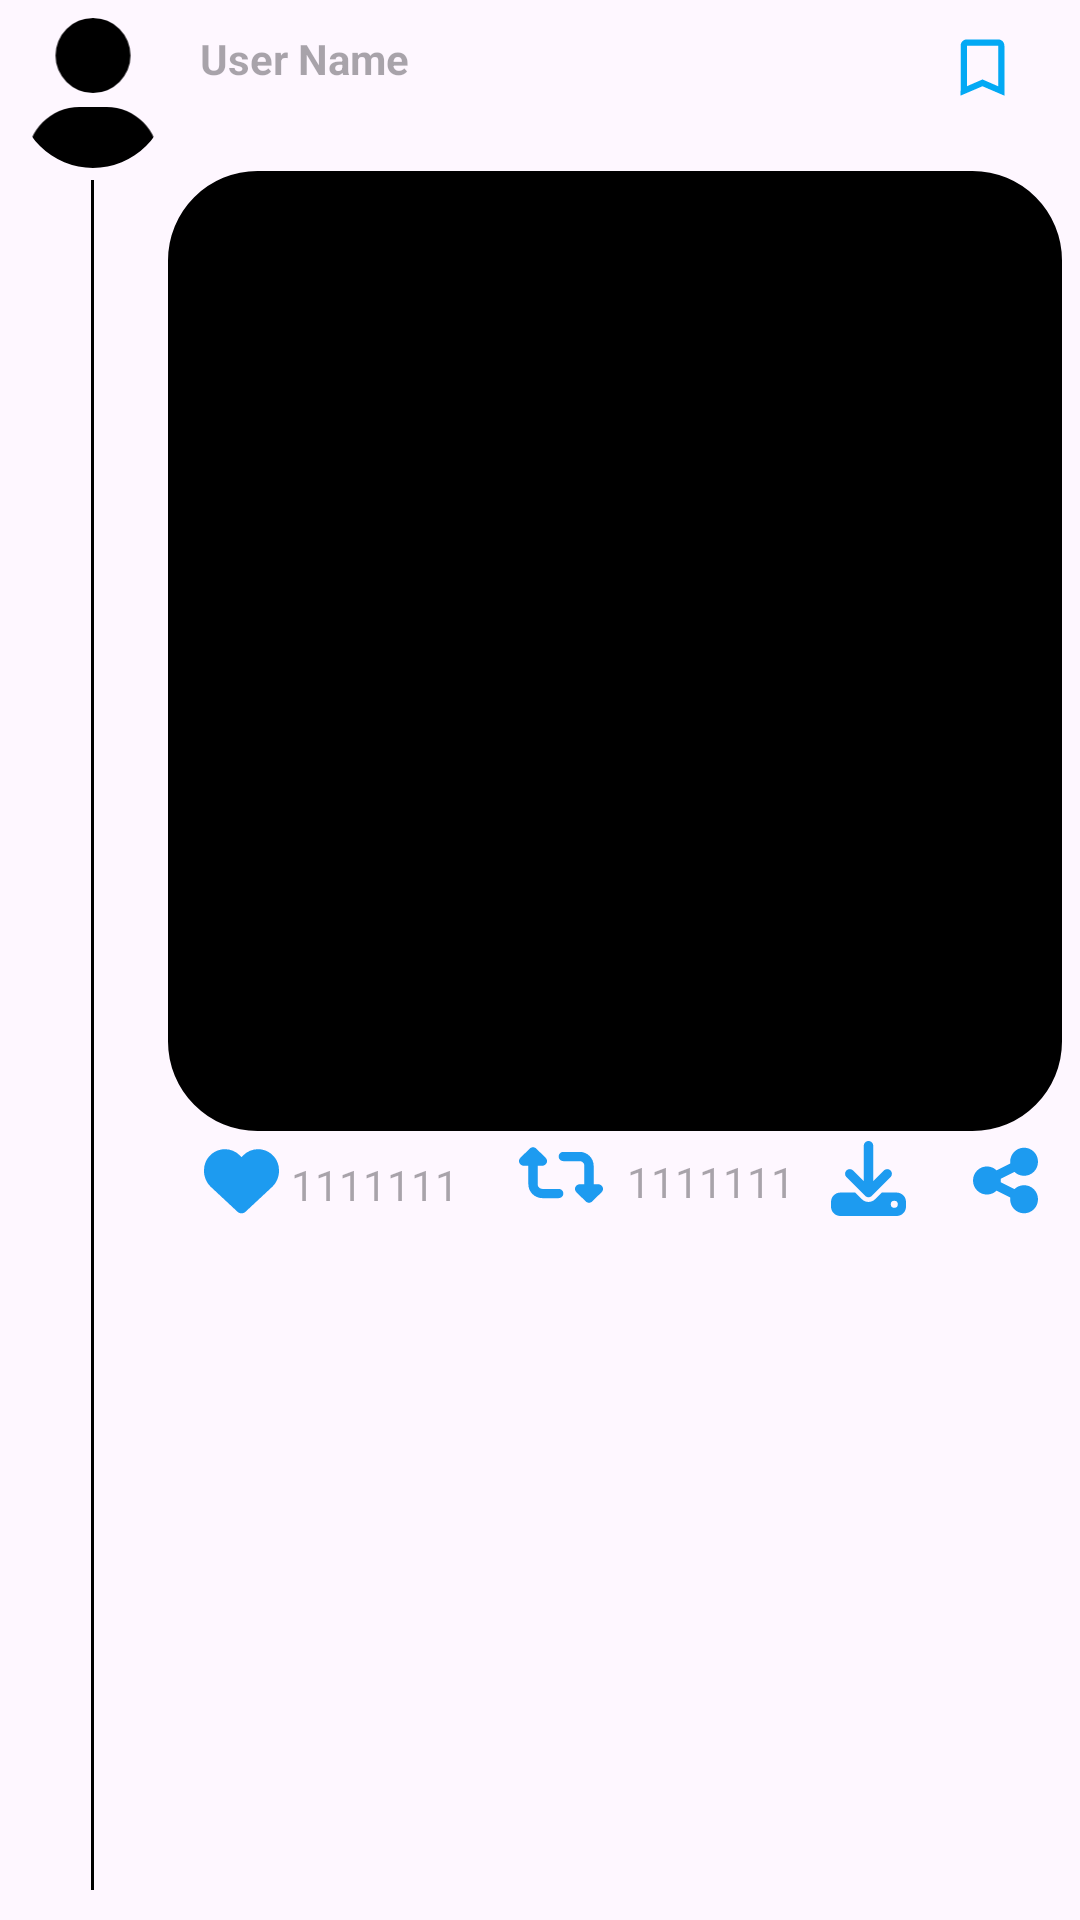

Named icons in this screenshot (1080*1920) and their bounding boxes, (x1, y1, x2, y2):
bookmark border saved twitt: (960, 39, 1005, 96)
download twitter: (831, 1141, 906, 1216)
heart: (204, 1149, 279, 1214)
retweet: (519, 1147, 603, 1203)
share nodes: (973, 1147, 1038, 1214)
